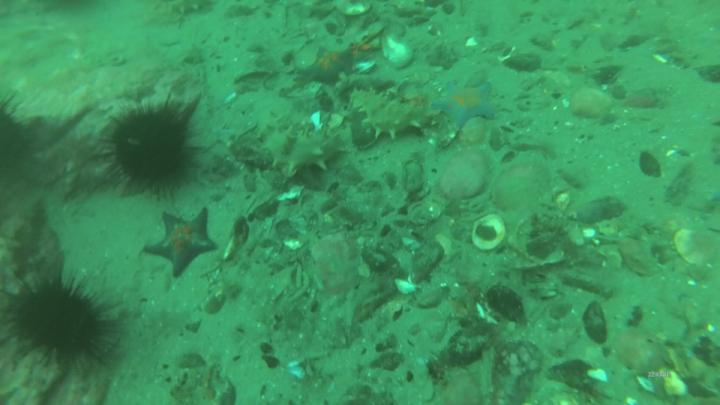echinus: (1, 264, 124, 378), (96, 92, 209, 203), (1, 91, 36, 200)
holothurian: (255, 109, 349, 180), (349, 85, 441, 139)
starfish: (142, 207, 219, 282), (438, 79, 505, 129), (297, 44, 358, 91)
